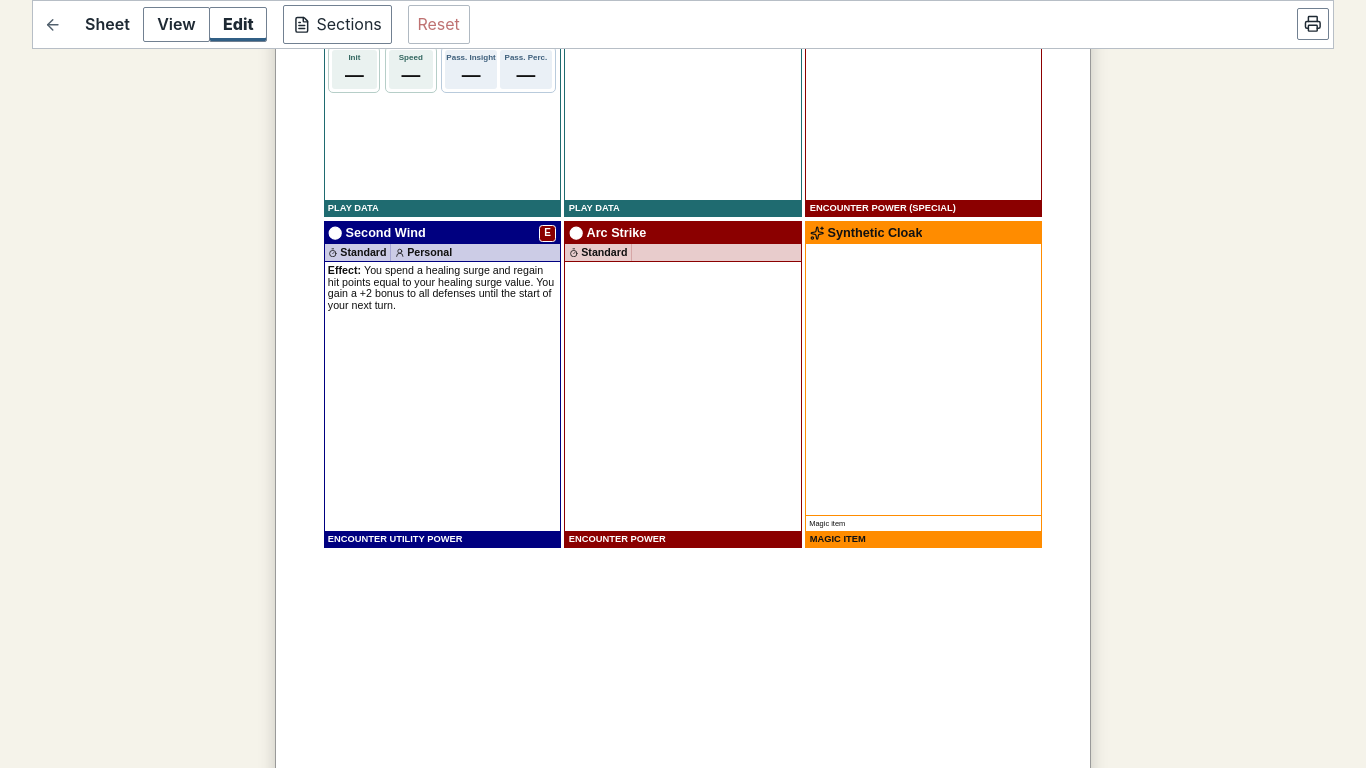
Scenario: character sheet Edit mode › shows a failed save as an alert with a retry
(page scrolled)
Right-click the button named "Hide Arc Strike": {"x": 683, "y": 385} left=564, top=221, right=802, bottom=548
(page scrolled)
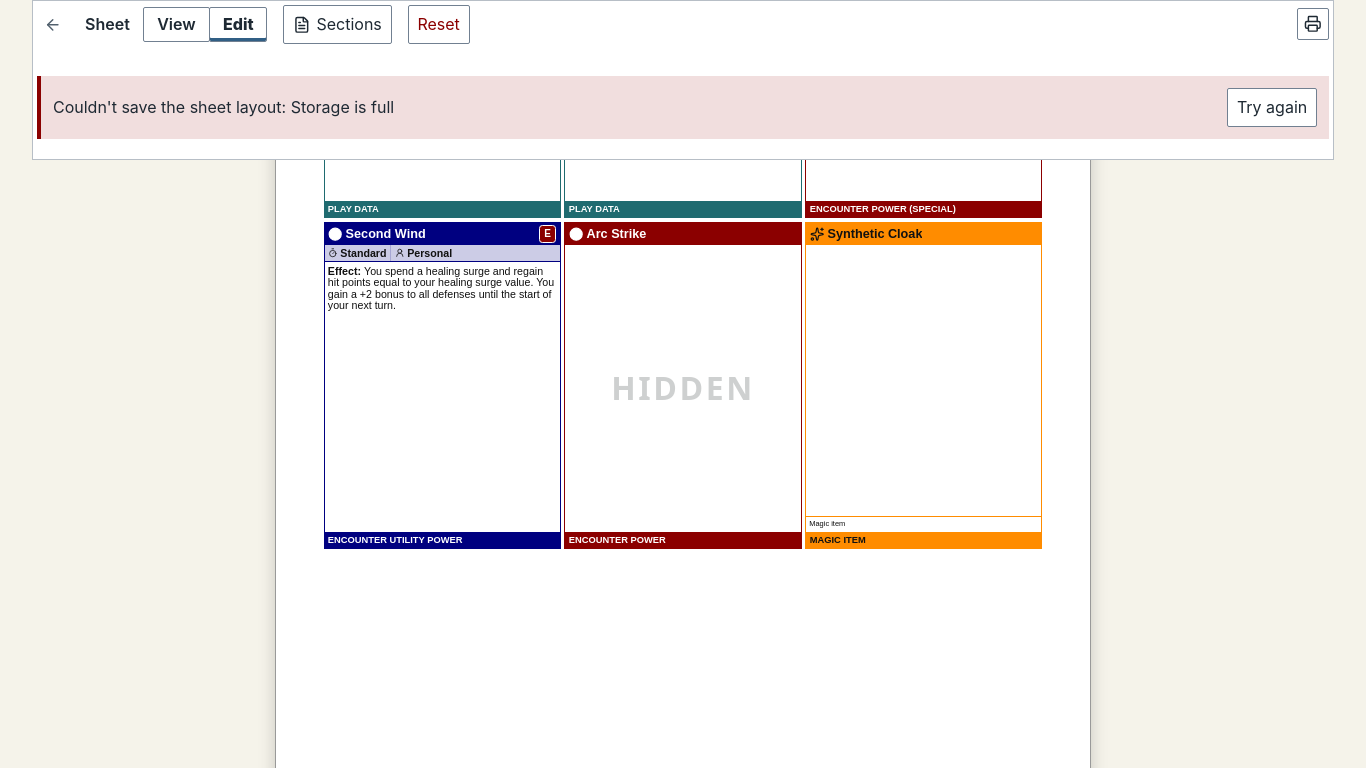
Check: the message "Couldn't save the sheet layout: Storage is full Try again" is shown, box left=37, top=76, right=1329, bottom=139
Click the button "Try again": {"x": 1272, "y": 107} left=1227, top=88, right=1317, bottom=127
(page scrolled)
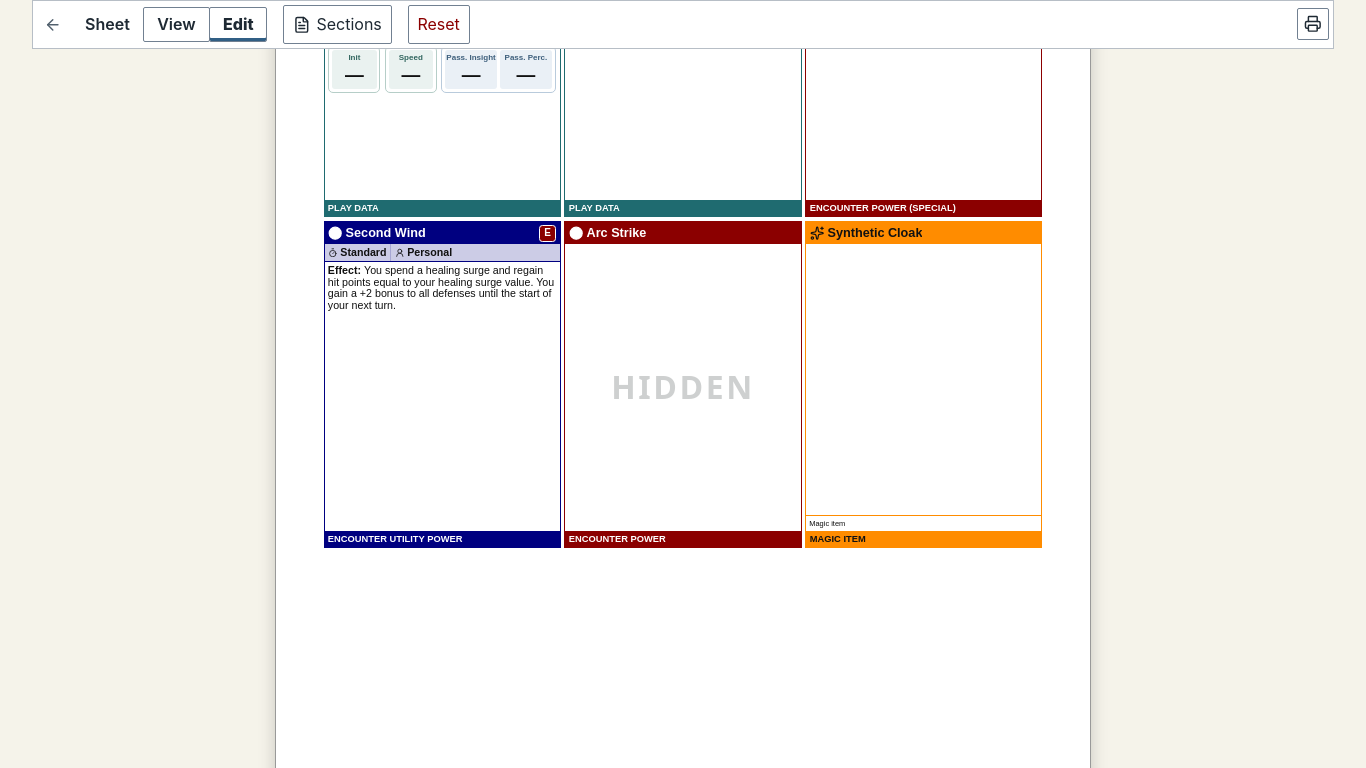
Check: the message "Couldn't save the sheet layout: Storage is full Try again" is gone
